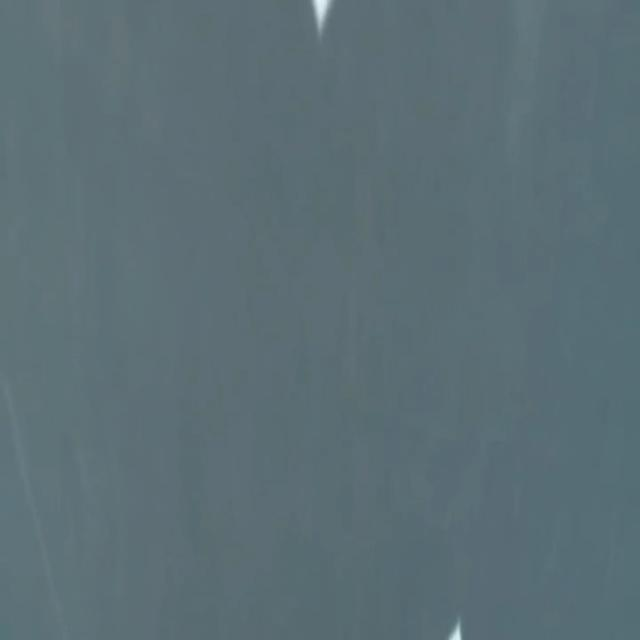center: (312, 0, 332, 32), (447, 620, 461, 639)
